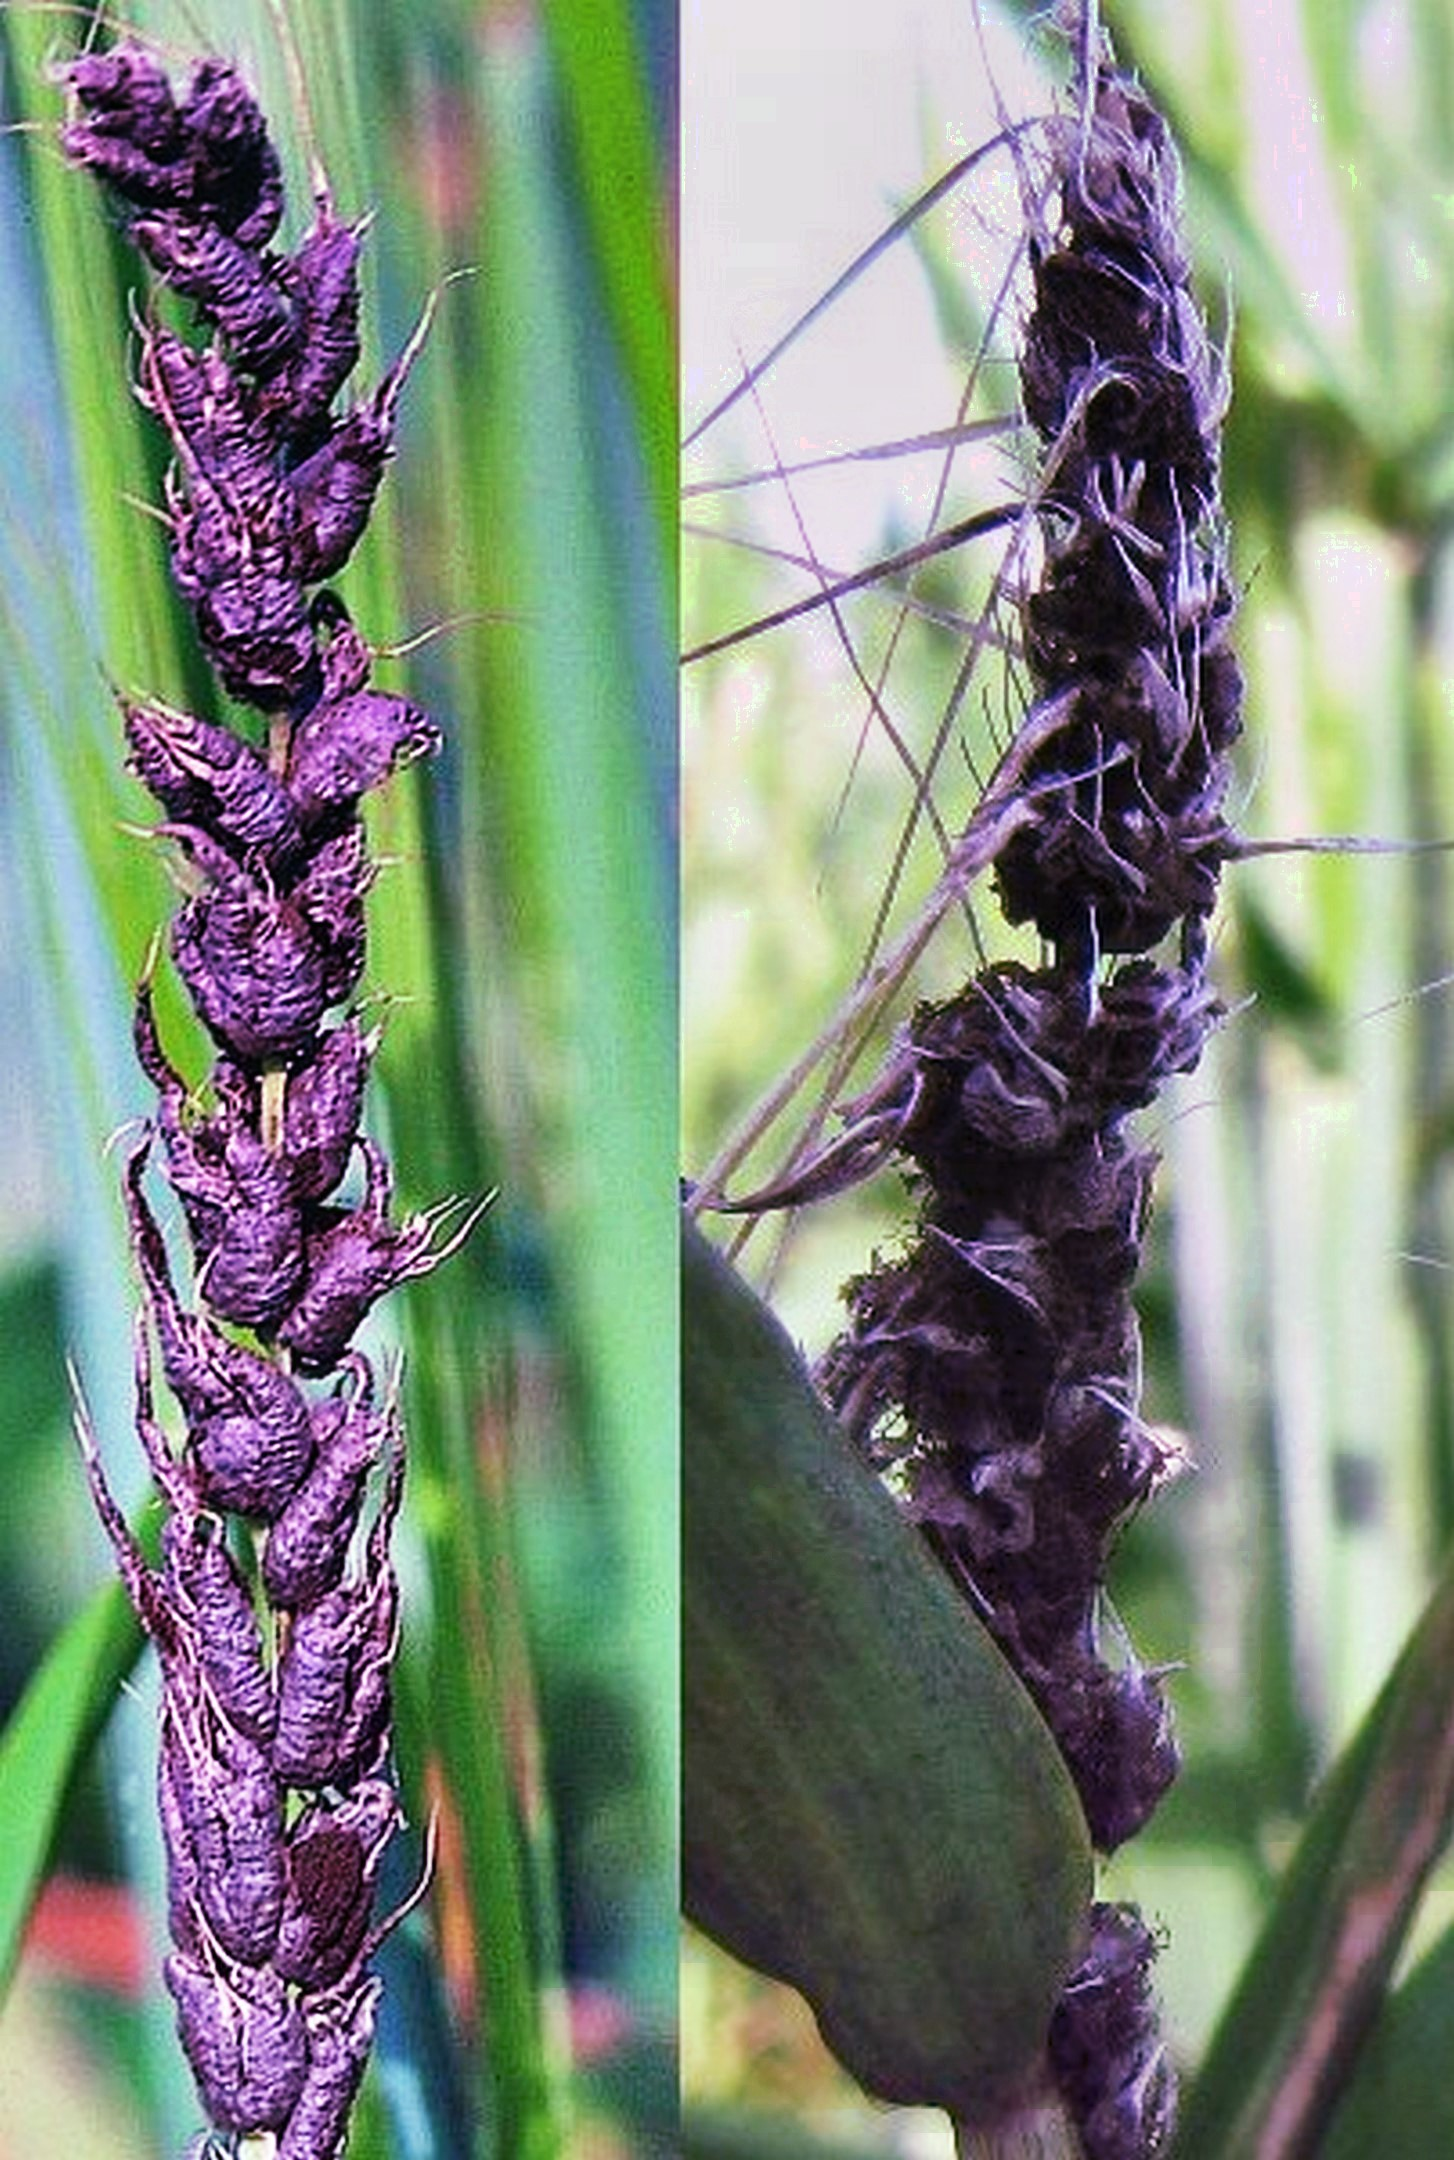Wheat Loose Smut: (50, 76, 462, 2119), (826, 42, 1267, 1793)
